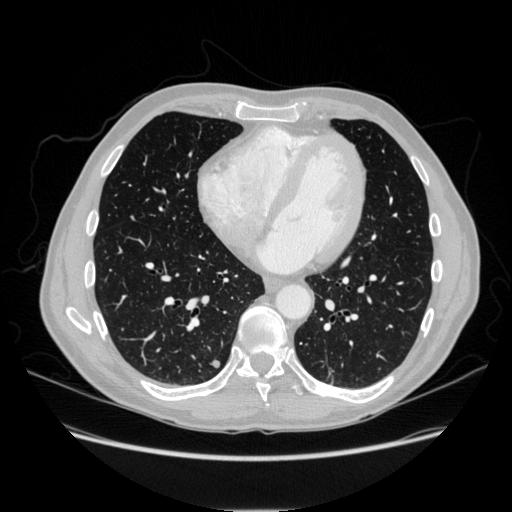nodule: (210, 357, 223, 370)
